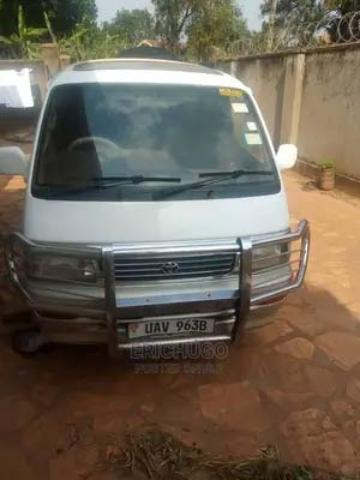van: (3, 56, 307, 343)
